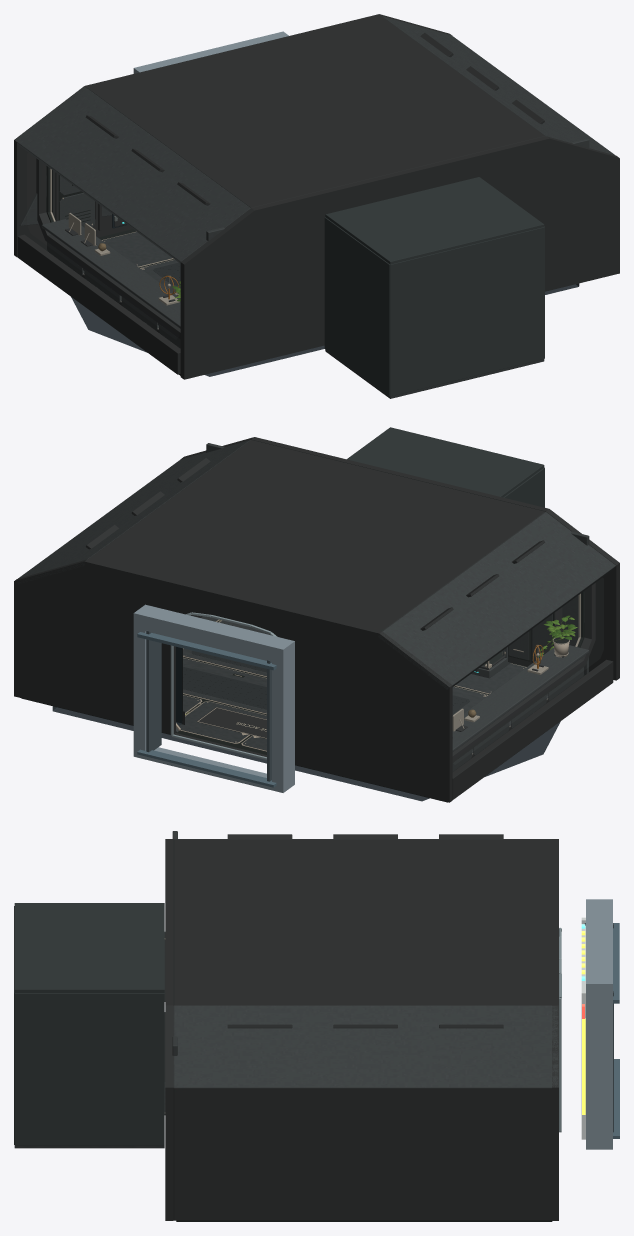
The model's file is cabin-master-static.glb.
The picture shows the model from 3 angles, top to bottom: view 1: azimuth 30°, elevation 25°; view 2: azimuth 150°, elevation 25°; view 3: azimuth 270°, elevation 25°; orthographic projection. The views are drawn at different scales.
Visible parts, largest first — view 1: CABIN_MASTER_cabin_CABIN_PBR_STUDIO_Powder_coated_structural, CABIN_MASTER_vestibule_CABIN_PBR_VESTIBULE_Balanced_Powder_c, CABIN_MASTER_cabin_CABIN_PBR_STUDIO_Warm_graphite_enamel, CABIN_MASTER_cabin_CABIN_PBR_WINDOW_Satin_graphite_finish, CABIN_MASTER_cabin_CABIN_PBR_MASTER_Graphite_alloy_deck, CABIN_MASTER_cabin_CABIN_PBR_ARRIVAL_V4_Graphite_frame, CABIN_MASTER_cabin_CABIN_PBR_Material_0, CABIN_MASTER_cabin_CABIN_PBR_WINDOW_Brushed_edge_alloy, CABIN_MASTER_cabin_CABIN_PBR_STUDIO_Carbon_rubber, CABIN_MASTER_vestibule_CABIN_PBR_VESTIBULE_Satin_deck_alloy; view 2: CABIN_MASTER_cabin_CABIN_PBR_STUDIO_Powder_coated_structural, CABIN_MASTER_cabin_CABIN_PBR_STUDIO_Warm_graphite_enamel, CABIN_MASTER_cabin_CABIN_PBR_Material_0, CABIN_MASTER_vestibule_CABIN_PBR_VESTIBULE_Balanced_Powder_c, CABIN_MASTER_cabin_CABIN_PBR_MASTER_Graphite_alloy_deck, CABIN_MASTER_cabin_CABIN_PBR_WINDOW_Satin_graphite_finish, CABIN_MASTER_cabin_CABIN_PBR_ARRIVAL_V4_Graphite_frame, CABIN_MASTER_cabin_CABIN_PBR_DETAIL_Dark_anti_slip_insert, CABIN_MASTER_cabin_CABIN_PBR_Material_1, CABIN_MASTER_cabin_CABIN_PBR_Material_3, CABIN_MASTER_cabin_CABIN_PBR_STUDIO_Carbon_rubber, CABIN_MASTER_cabin_CABIN_PBR_STUDIO_Worn_machined_bronze_ste (+3 smaller); view 3: CABIN_MASTER_cabin_CABIN_PBR_STUDIO_Powder_coated_structural, CABIN_MASTER_vestibule_CABIN_PBR_VESTIBULE_Balanced_Powder_c, CABIN_MASTER_cabin_CABIN_PBR_STUDIO_Warm_graphite_enamel, CABIN_MASTER_cabin_CABIN_PBR_Material_0, CABIN_MASTER_cabin_CABIN_PBR_Material_3, CABIN_MASTER_cabin_CABIN_PBR_STUDIO_Carbon_rubber, CABIN_MASTER_vestibule_CABIN_PBR_VESTIBULE_Satin_deck_alloy, CABIN_MASTER_cabin_CABIN_PBR_Material_2, CABIN_MASTER_cabin_CABIN_PBR_UNIFIED_Machined_seam_edges.
Boxes of the visible parts, x1=… form: CABIN_MASTER_cabin_CABIN_PBR_STUDIO_Powder_coated_structural: x1=14, y1=14, x2=619, y2=379; CABIN_MASTER_vestibule_CABIN_PBR_VESTIBULE_Balanced_Powder_c: x1=324, y1=177, x2=544, y2=396; CABIN_MASTER_cabin_CABIN_PBR_STUDIO_Warm_graphite_enamel: x1=15, y1=16, x2=614, y2=348; CABIN_MASTER_cabin_CABIN_PBR_WINDOW_Satin_graphite_finish: x1=41, y1=219, x2=180, y2=328; CABIN_MASTER_cabin_CABIN_PBR_MASTER_Graphite_alloy_deck: x1=102, y1=232, x2=180, y2=294; CABIN_MASTER_cabin_CABIN_PBR_ARRIVAL_V4_Graphite_frame: x1=71, y1=283, x2=579, y2=376; CABIN_MASTER_cabin_CABIN_PBR_Material_0: x1=133, y1=31, x2=288, y2=73; CABIN_MASTER_cabin_CABIN_PBR_WINDOW_Brushed_edge_alloy: x1=50, y1=168, x2=179, y2=328; CABIN_MASTER_cabin_CABIN_PBR_STUDIO_Carbon_rubber: x1=46, y1=166, x2=180, y2=375; CABIN_MASTER_vestibule_CABIN_PBR_VESTIBULE_Satin_deck_alloy: x1=325, y1=350, x2=544, y2=398; CABIN_MASTER_cabin_CABIN_PBR_STUDIO_Powder_coated_structural: x1=14, y1=437, x2=619, y2=802; CABIN_MASTER_cabin_CABIN_PBR_STUDIO_Warm_graphite_enamel: x1=17, y1=440, x2=615, y2=771; CABIN_MASTER_cabin_CABIN_PBR_Material_0: x1=133, y1=604, x2=294, y2=792; CABIN_MASTER_vestibule_CABIN_PBR_VESTIBULE_Balanced_Powder_c: x1=347, y1=427, x2=544, y2=507; CABIN_MASTER_cabin_CABIN_PBR_MASTER_Graphite_alloy_deck: x1=179, y1=616, x2=525, y2=750; CABIN_MASTER_cabin_CABIN_PBR_WINDOW_Satin_graphite_finish: x1=452, y1=645, x2=589, y2=751; CABIN_MASTER_cabin_CABIN_PBR_ARRIVAL_V4_Graphite_frame: x1=52, y1=706, x2=560, y2=801; CABIN_MASTER_cabin_CABIN_PBR_DETAIL_Dark_anti_slip_insert: x1=183, y1=651, x2=469, y2=713; CABIN_MASTER_cabin_CABIN_PBR_Material_1: x1=146, y1=630, x2=271, y2=781; CABIN_MASTER_cabin_CABIN_PBR_Material_3: x1=137, y1=632, x2=276, y2=787; CABIN_MASTER_cabin_CABIN_PBR_STUDIO_Carbon_rubber: x1=21, y1=591, x2=585, y2=802; CABIN_MASTER_cabin_CABIN_PBR_STUDIO_Worn_machined_bronze_ste: x1=176, y1=619, x2=569, y2=751; CABIN_MASTER_cabin_CABIN_PBR_STUDIO_Powder_coated_structural: x1=165, y1=834, x2=558, y2=1220; CABIN_MASTER_vestibule_CABIN_PBR_VESTIBULE_Balanced_Powder_c: x1=14, y1=903, x2=164, y2=1145; CABIN_MASTER_cabin_CABIN_PBR_STUDIO_Warm_graphite_enamel: x1=172, y1=831, x2=558, y2=1087; CABIN_MASTER_cabin_CABIN_PBR_Material_0: x1=586, y1=899, x2=612, y2=1149; CABIN_MASTER_cabin_CABIN_PBR_Material_3: x1=613, y1=923, x2=619, y2=1138; CABIN_MASTER_cabin_CABIN_PBR_STUDIO_Carbon_rubber: x1=176, y1=1220, x2=552, y2=1221; CABIN_MASTER_vestibule_CABIN_PBR_VESTIBULE_Satin_deck_alloy: x1=14, y1=1082, x2=165, y2=1148; CABIN_MASTER_cabin_CABIN_PBR_Material_2: x1=581, y1=917, x2=585, y2=1139; CABIN_MASTER_cabin_CABIN_PBR_UNIFIED_Machined_seam_edges: x1=559, y1=927, x2=561, y2=1132.
Size of the model in its own units: 10.12 by 3.54 by 10.31.
Materials: 71 (28 with a texture image).
